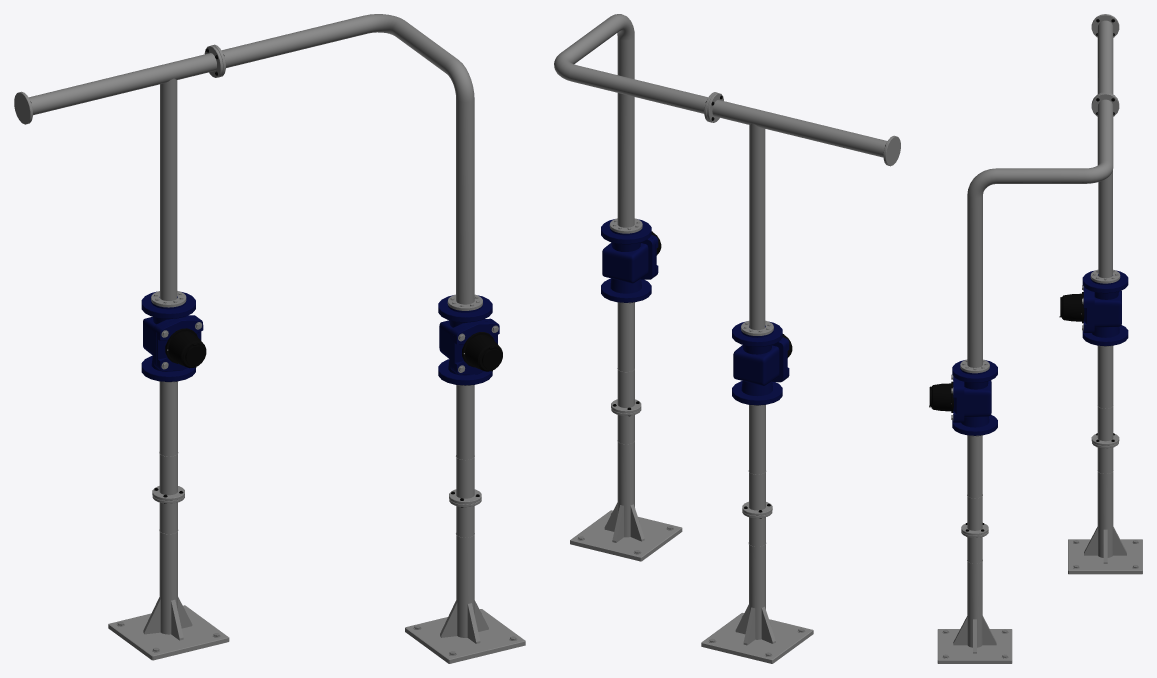
3 renders of one model, left to right at view 1: azimuth 30°, elevation 25°; view 2: azimuth 150°, elevation 25°; view 3: azimuth 270°, elevation 25°, orthographic. The views are drawn at different scales.
Visible parts, largest first — view 1: Rectangle014, Cylinder199, Cylinder171, Rectangle015, Box049, Box047, Box048, Box006, FD-WT 50A_01, FD-WT 50A_02, Cylinder186, Cylinder076 (+3 smaller); view 2: Rectangle014, Cylinder171, Cylinder199, Rectangle015, Box047, Box049, FD-WT 50A_02, FD-WT 50A_01, Cylinder075, Cylinder185, Cylinder194, Cylinder086 (+1 smaller); view 3: Rectangle014, Cylinder199, Cylinder171, Box049, Box047, Rectangle015, FD-WT 50A_01, FD-WT 50A_02, Cylinder194, Cylinder086, Cylinder075, Cylinder185 (+4 smaller).
Part boxes in pixels (left/top/right/bottom): Rectangle014: left=28, top=14, right=474, bottom=304; Cylinder199: left=143, top=381, right=192, bottom=640; Cylinder171: left=440, top=385, right=488, bottom=643; Rectangle015: left=160, top=78, right=177, bottom=300; Box049: left=108, top=605, right=229, bottom=660; Box047: left=405, top=609, right=525, bottom=663; Box048: left=156, top=317, right=203, bottom=371; Box006: left=453, top=321, right=499, bottom=374; FD-WT 50A_01: left=439, top=318, right=501, bottom=370; FD-WT 50A_02: left=143, top=315, right=204, bottom=367; Cylinder186: left=165, top=328, right=206, bottom=368; Cylinder076: left=462, top=332, right=502, bottom=371; Rectangle014: left=554, top=14, right=887, bottom=227; Cylinder171: left=604, top=302, right=644, bottom=542; Cylinder199: left=735, top=405, right=775, bottom=645; Rectangle015: left=749, top=123, right=765, bottom=330; Box047: left=570, top=510, right=682, bottom=561; Box049: left=701, top=613, right=813, bottom=663; FD-WT 50A_02: left=733, top=340, right=786, bottom=385; FD-WT 50A_01: left=602, top=237, right=654, bottom=283; Cylinder075: left=601, top=278, right=651, bottom=302; Cylinder185: left=732, top=381, right=782, bottom=405; Cylinder194: left=732, top=321, right=782, bottom=354; Cylinder086: left=601, top=219, right=651, bottom=251; Rectangle014: left=967, top=20, right=1113, bottom=367; Cylinder199: left=1084, top=346, right=1126, bottom=563; Cylinder171: left=953, top=435, right=996, bottom=653; Box049: left=1068, top=539, right=1142, bottom=574; Box047: left=937, top=629, right=1012, bottom=663; Rectangle015: left=1098, top=170, right=1112, bottom=278; FD-WT 50A_01: left=929, top=380, right=991, bottom=422; FD-WT 50A_02: left=1060, top=290, right=1121, bottom=332; Cylinder194: left=1082, top=270, right=1128, bottom=299; Cylinder086: left=952, top=360, right=997, bottom=389; Cylinder075: left=952, top=415, right=997, bottom=435; Cylinder185: left=1082, top=325, right=1128, bottom=346.
Size of the model in its own units: 146 by 199 by 79.47.
